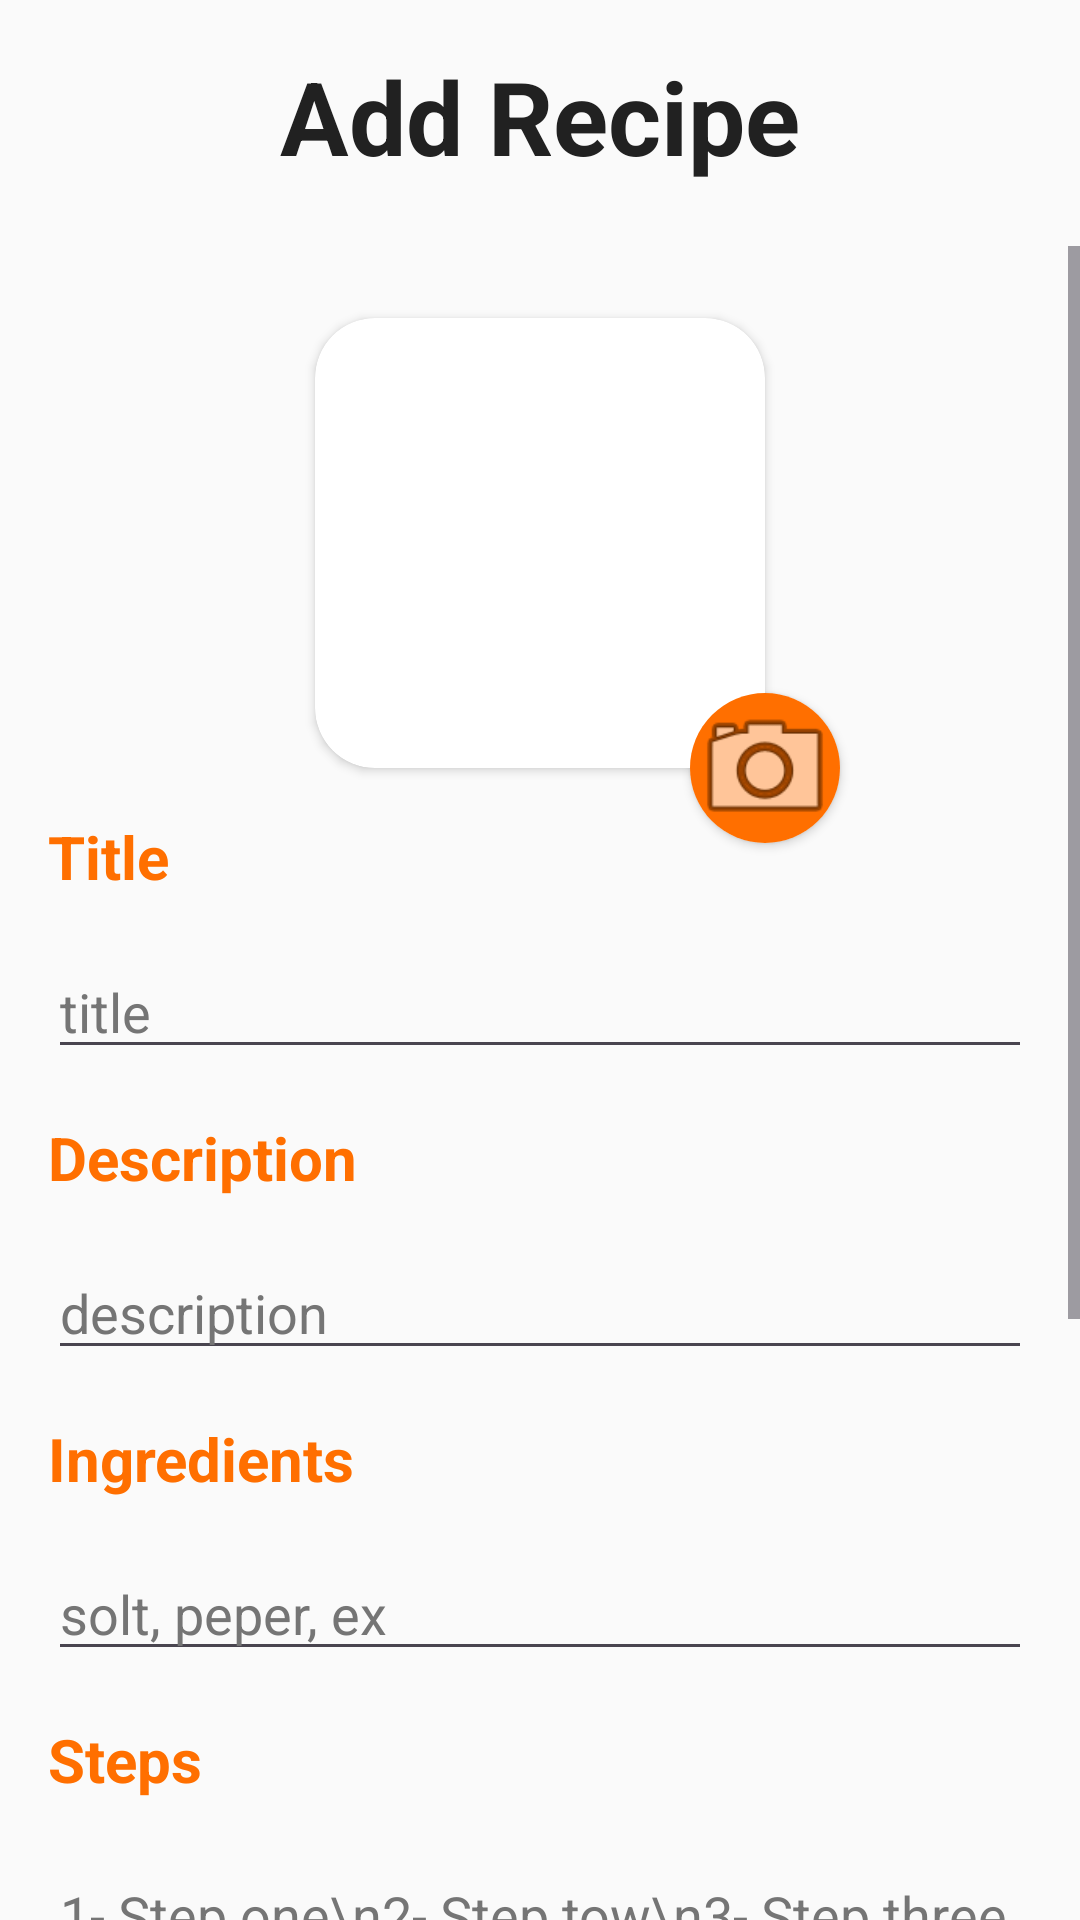

Icons on this 1080px x 1920px Android screen, each with the point to tap as (x,y):
camera: (765,768)
